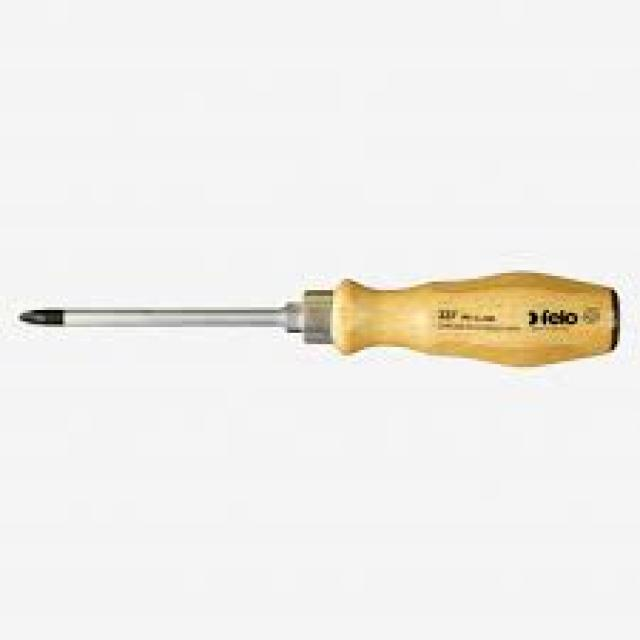screw driver: (8, 229, 640, 390)
